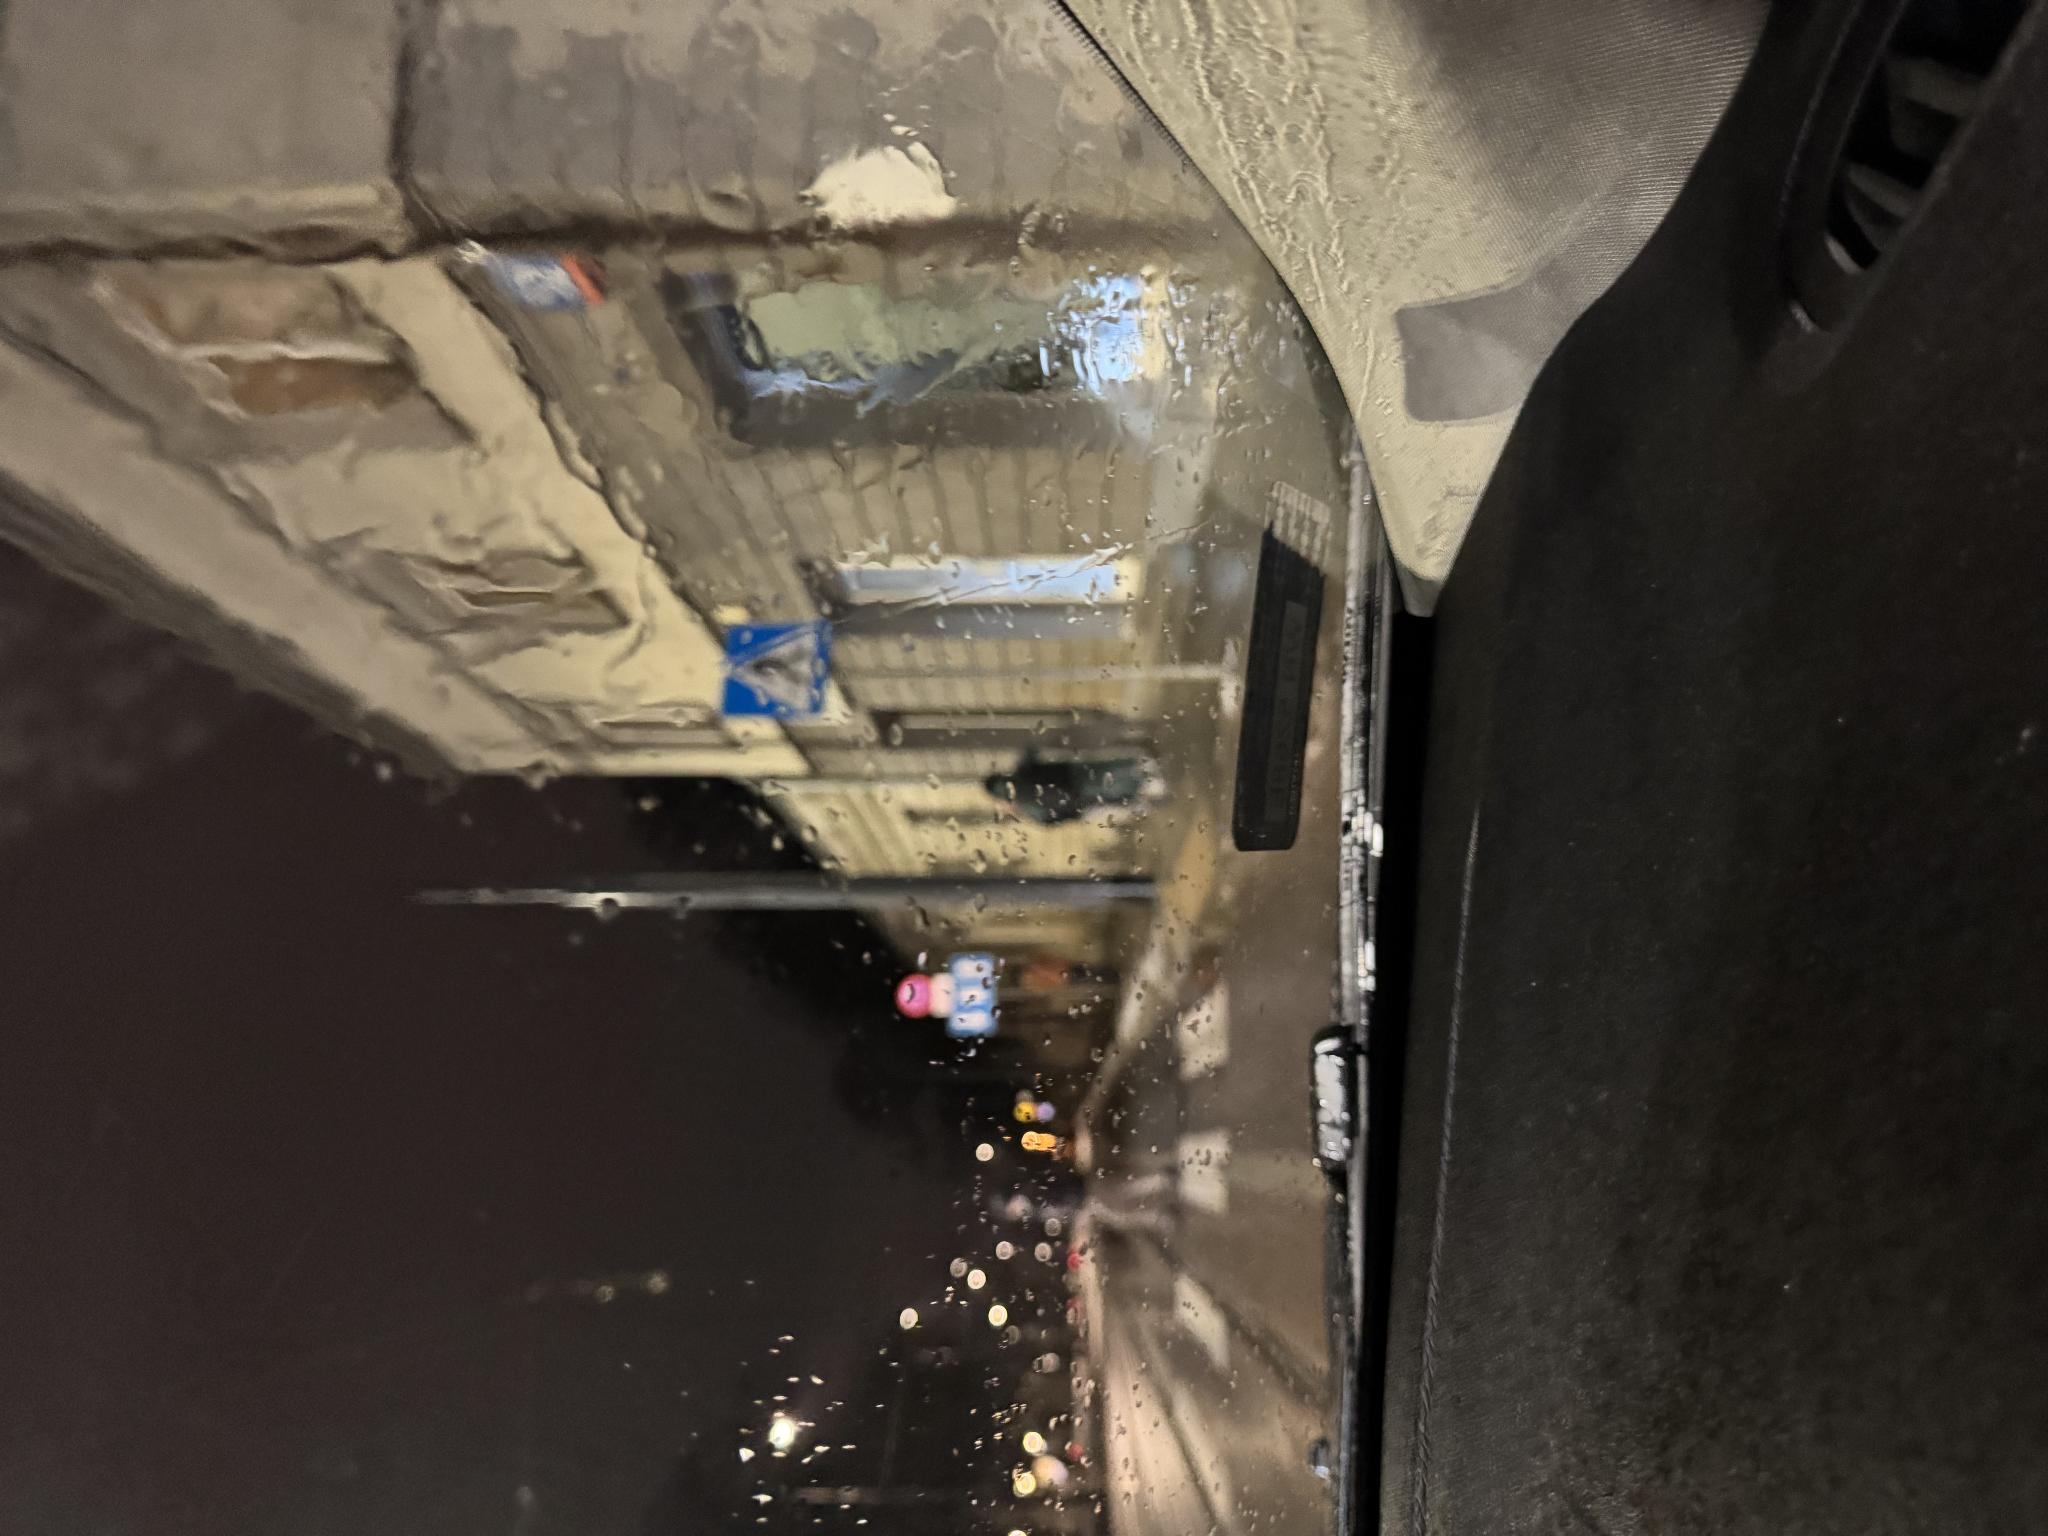information: (818, 720, 918, 829)
